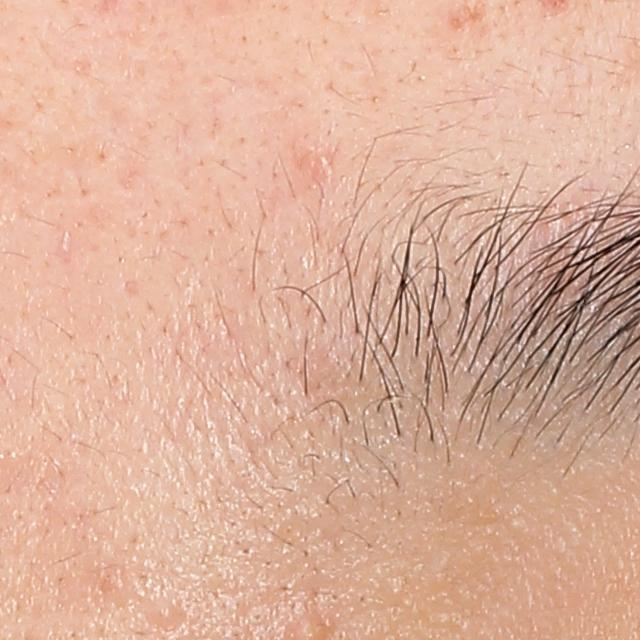comedo: (146, 600, 179, 632)
